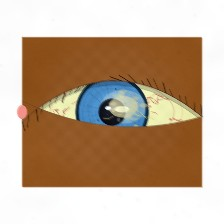corneal_ulcer: (99, 88, 147, 126)
